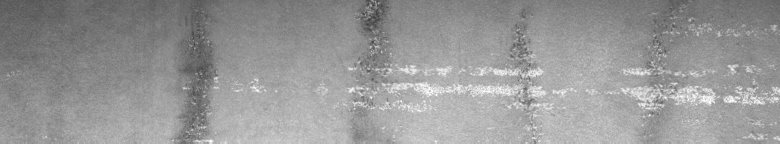hc: (183, 29, 266, 136)
